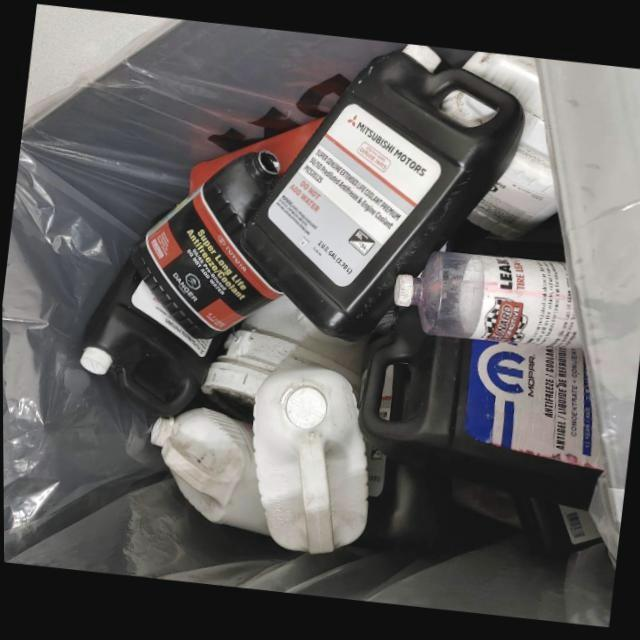plastic_bottle: (394, 252, 582, 351)
plastic_container: (238, 45, 525, 343), (358, 313, 604, 513), (130, 151, 282, 340), (199, 295, 384, 424), (250, 365, 368, 556), (79, 259, 222, 416), (465, 53, 557, 246), (148, 410, 266, 538)
